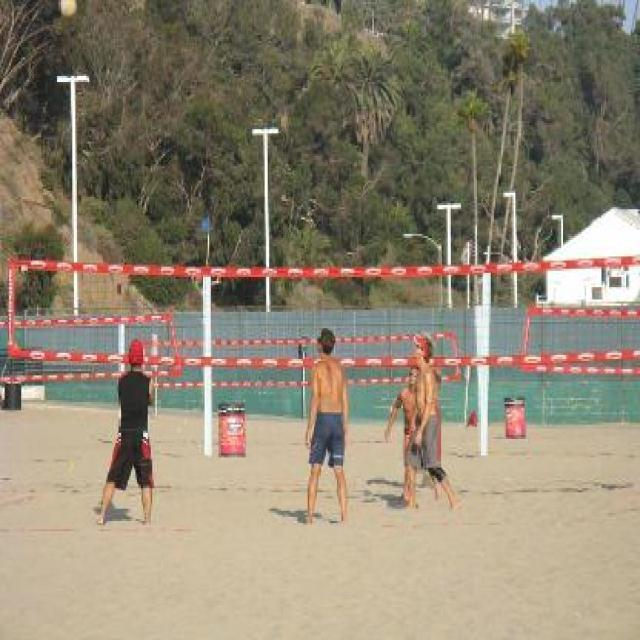volleyball: (59, 0, 78, 17)
